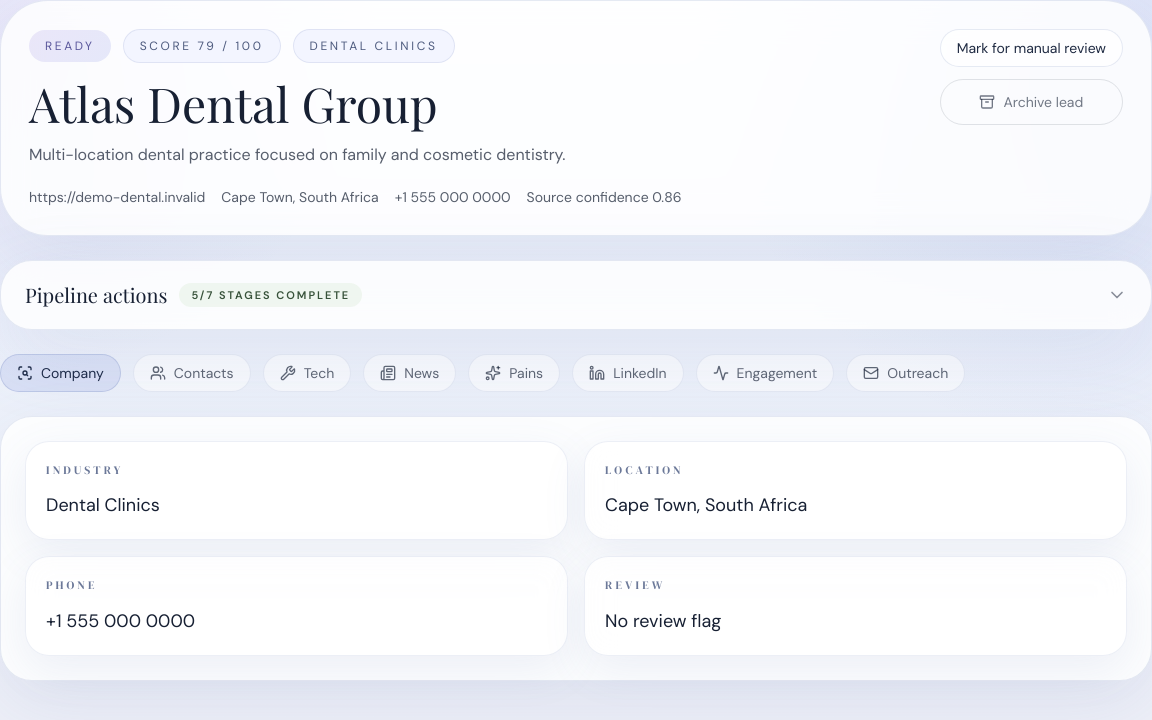
Test: LeadDetailView › shows tabbed company details and switches to pains
Check: the text "Multi-location dental practice" is shown, box [29,144,566,165]
Click the button "Pains" at (514, 373), box [468,354,560,392]
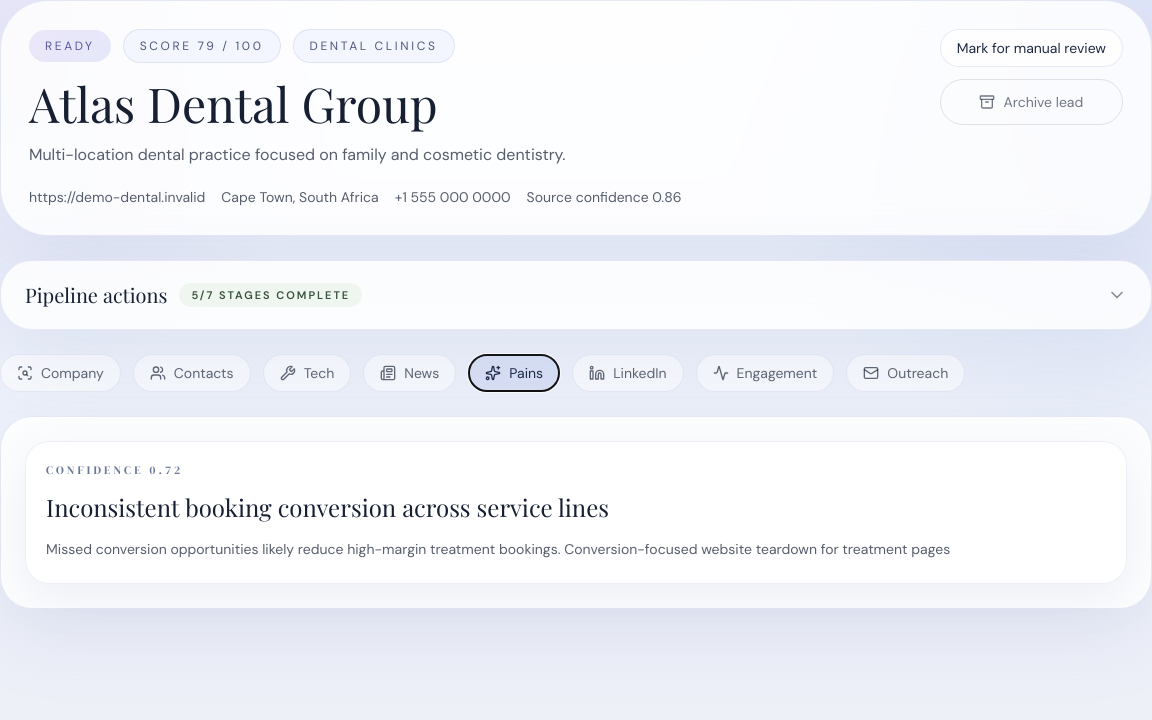
Check: the heading "Inconsistent booking conversion across service lines" is shown, box [46,491,609,523]
Check: the text "conversion-focused website teardown" is shown, box [46,540,950,558]
